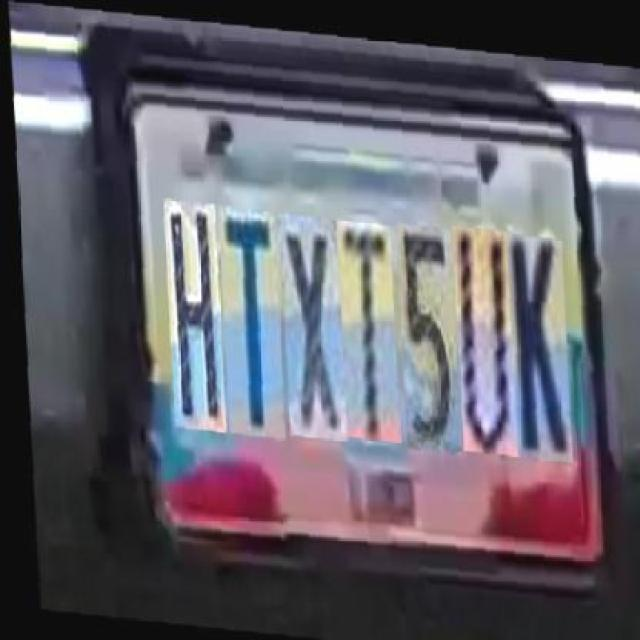5: (386, 202, 452, 428)
h: (154, 190, 218, 422)
k: (497, 204, 565, 430)
t: (209, 193, 277, 424), (328, 202, 392, 422)
u: (443, 200, 509, 428)
x: (270, 199, 339, 423)
